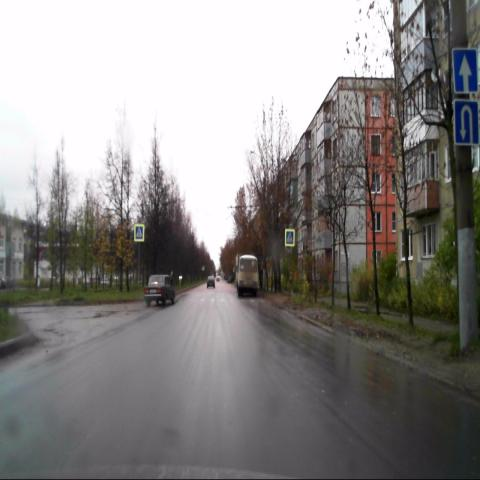6_3_1: (453, 99, 479, 146)
